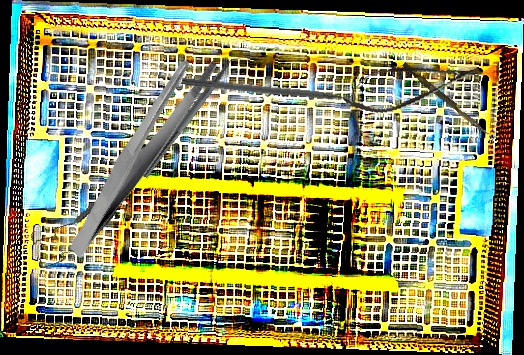Chopper: (141, 47, 248, 185)
Dressing Forceps: (25, 45, 255, 260)
Micro Scissor: (338, 49, 484, 121)
Pusher: (400, 61, 492, 137), (180, 77, 372, 107)
Speculum: (21, 151, 137, 289)
